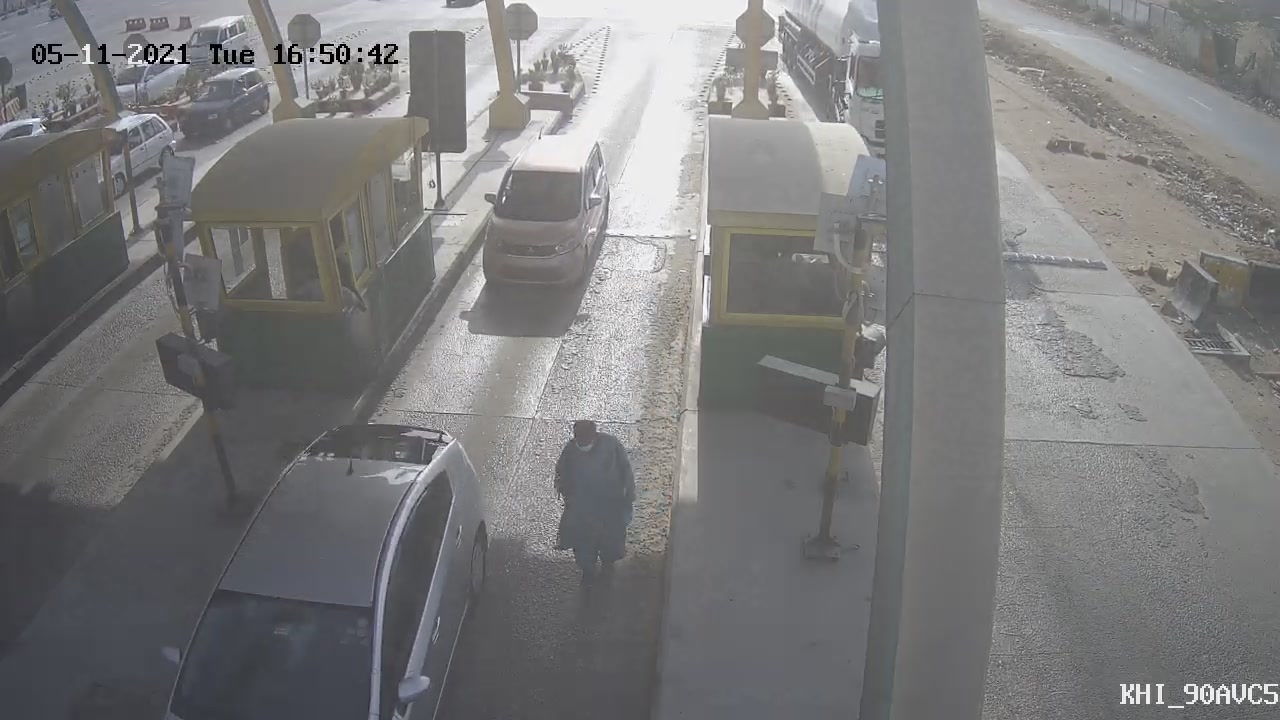F1: (460, 117, 637, 321)
